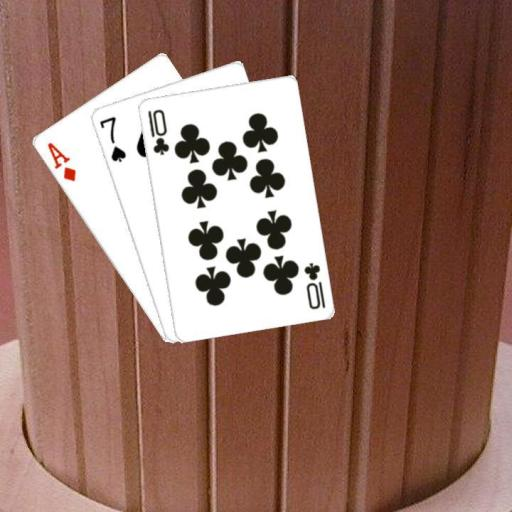10C: (144, 106, 170, 157), (301, 259, 326, 311)
7S: (96, 113, 128, 164)
AD: (44, 139, 78, 184)
